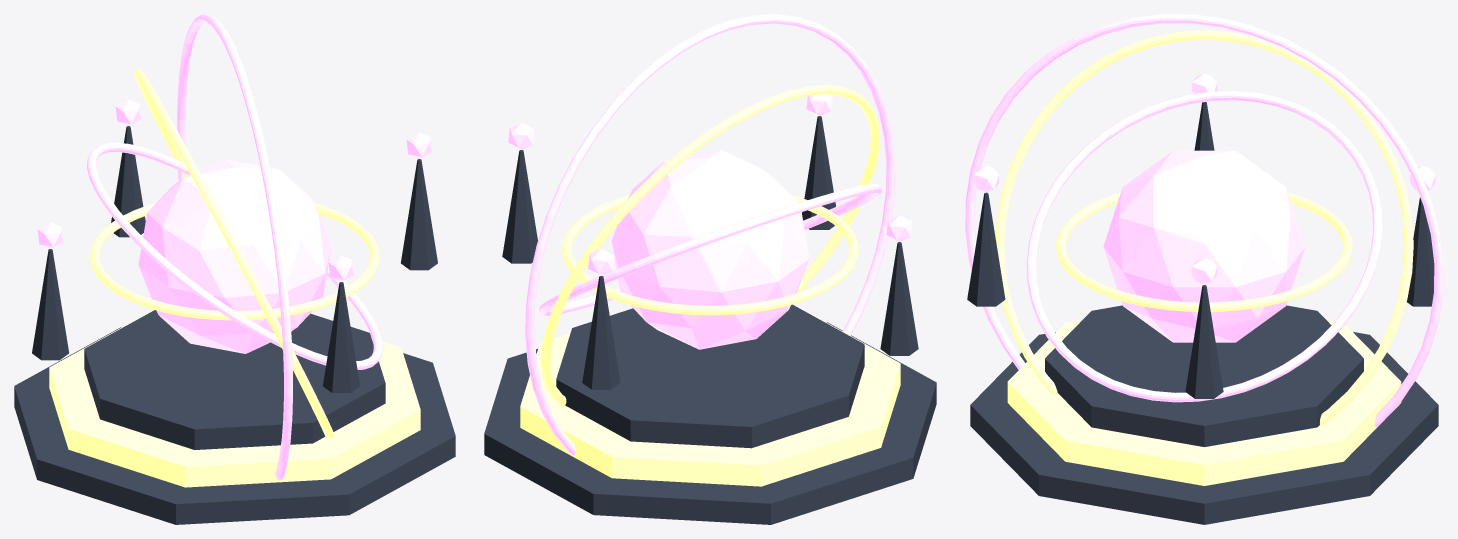
File: gpu-blender-v30.glb
3 views of the same model, side by side, from view 1: azimuth 30°, elevation 25°; view 2: azimuth 150°, elevation 25°; view 3: azimuth 270°, elevation 25° (orthographic). The views are drawn at different scales.
Visible parts, largest first — view 1: Cylinder.002, SovereignCore_zoth-relay, Cylinder, Cylinder.001, Torus.003, Torus.001, Torus.002, Torus, Cone, Cone.002, Cone.003, Cone.001 (+4 smaller); view 2: Cylinder.002, SovereignCore_zoth-relay, Cylinder, Cylinder.001, Torus.003, Torus.002, Torus, Torus.001, Cone.001, Cone.002, Cone, Cone.003 (+3 smaller); view 3: SovereignCore_zoth-relay, Cylinder.002, Cylinder, Cylinder.001, Torus.001, Torus.003, Torus.002, Torus, Cone.003, Cone, Cone.001, Cone.002 (+2 smaller).
Part boxes in pixels (bbox=[...]): Cylinder.002: bbox=[84, 310, 385, 449]; SovereignCore_zoth-relay: bbox=[138, 159, 331, 353]; Cylinder: bbox=[14, 327, 455, 524]; Cylinder.001: bbox=[49, 318, 420, 487]; Torus.003: bbox=[177, 14, 292, 480]; Torus.001: bbox=[87, 142, 382, 369]; Torus.002: bbox=[134, 69, 334, 438]; Torus: bbox=[90, 203, 379, 320]; Cone: bbox=[401, 159, 437, 270]; Cone.002: bbox=[32, 249, 68, 360]; Cone.003: bbox=[323, 282, 359, 392]; Cone.001: bbox=[111, 126, 145, 237]; Cylinder.002: bbox=[556, 304, 864, 448]; SovereignCore_zoth-relay: bbox=[611, 150, 809, 349]; Cylinder: bbox=[484, 322, 936, 524]; Cylinder.001: bbox=[520, 313, 900, 486]; Torus.003: bbox=[525, 14, 895, 455]; Torus.002: bbox=[541, 84, 879, 406]; Torus: bbox=[562, 195, 858, 315]; Torus.001: bbox=[539, 183, 881, 315]; Cone.001: bbox=[582, 276, 620, 389]; Cone.002: bbox=[880, 242, 918, 355]; Cone: bbox=[502, 150, 537, 263]; Cone.003: bbox=[802, 116, 835, 229]; SovereignCore_zoth-relay: bbox=[1103, 150, 1305, 342]; Cylinder.002: bbox=[1045, 305, 1363, 446]; Cylinder: bbox=[970, 332, 1438, 524]; Cylinder.001: bbox=[1007, 320, 1401, 485]; Torus.001: bbox=[1026, 91, 1382, 402]; Torus.003: bbox=[965, 14, 1443, 427]; Torus.002: bbox=[995, 30, 1413, 426]; Torus: bbox=[1056, 192, 1352, 311]; Cone.003: bbox=[967, 192, 1005, 306]; Cone: bbox=[1185, 285, 1223, 398]; Cone.001: bbox=[1407, 197, 1434, 306]; Cone.002: bbox=[1194, 102, 1214, 150].
Size of the model in its own units: 4.41 by 4.7 by 4.49.
